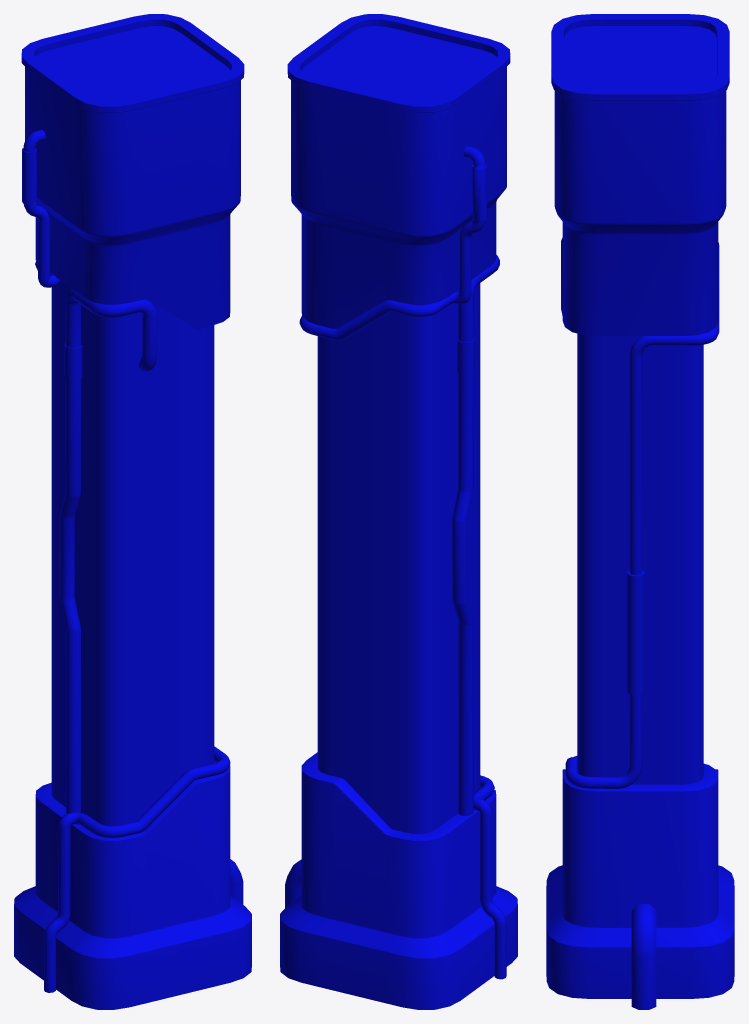
File: Pillar_1.FBX
3 views of the same model, side by side, from view 1: azimuth 30°, elevation 25°; view 2: azimuth 150°, elevation 25°; view 3: azimuth 270°, elevation 25° (orthographic).
Parts seen in each view (by area): view 1: zw; view 2: zw; view 3: zw.
Boxes of the visible parts, <box> form: zw: <box>14,14,251,1009</box>; zw: <box>280,14,517,1009</box>; zw: <box>546,14,734,1009</box>.
Size of the model in its own units: 31.39 by 130 by 24.49.
